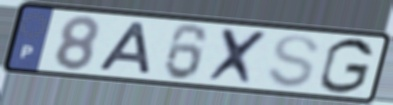6: (162, 22, 209, 82)
8: (52, 13, 103, 72)
A: (95, 19, 153, 76)
G: (316, 36, 376, 96)
S: (264, 33, 322, 90)
X: (204, 26, 274, 88)
